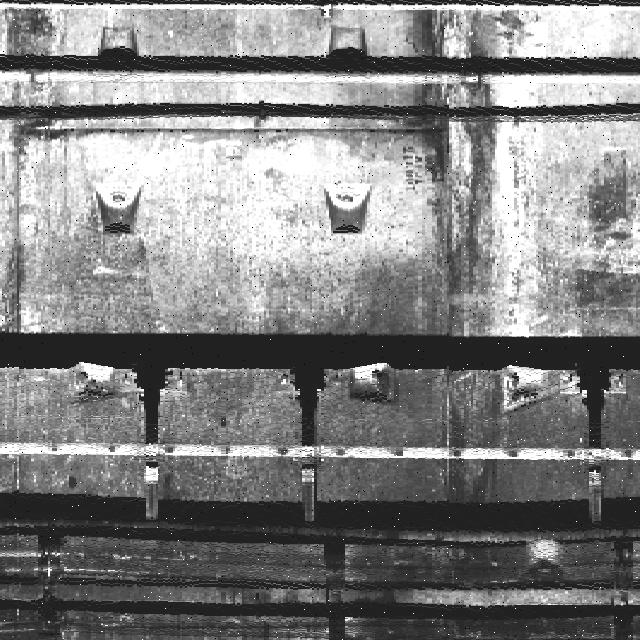leakage: (403, 0, 542, 329)
